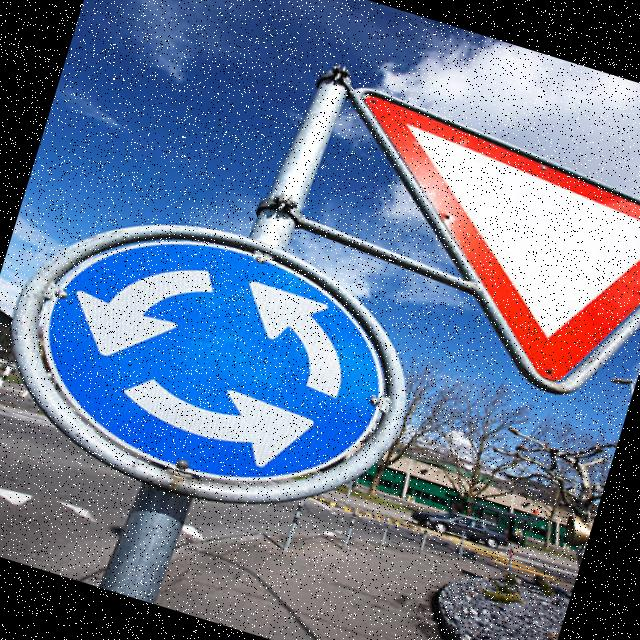round_about: (11, 197, 420, 528)
